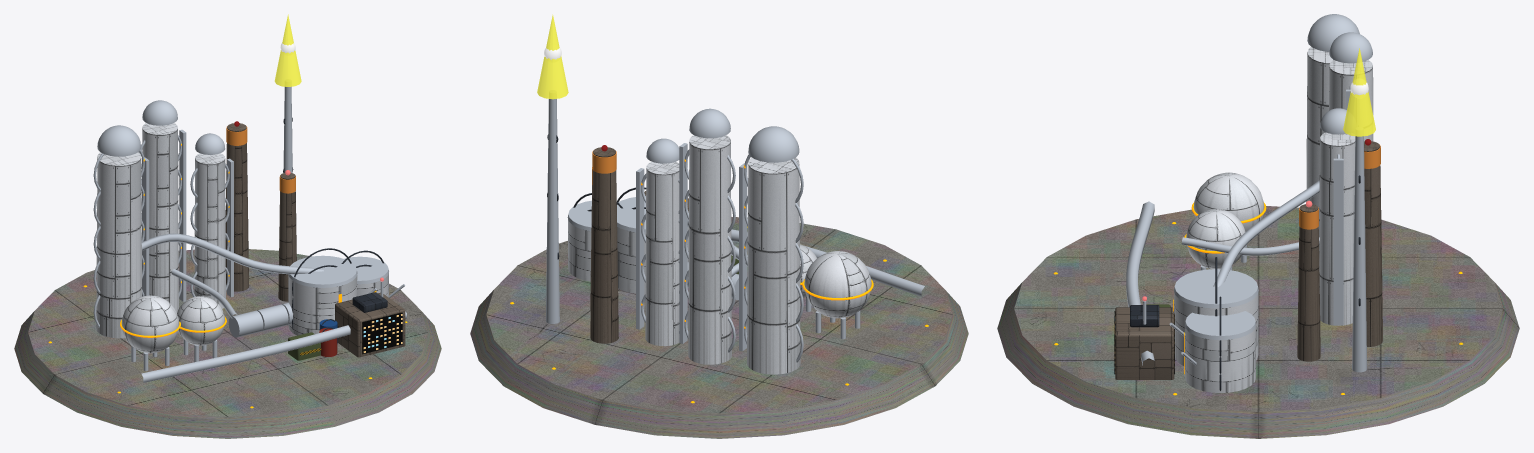
Rendered from refinery-T3.glb.
The picture shows the model from 3 angles, left to right: view 1: azimuth 30°, elevation 25°; view 2: azimuth 150°, elevation 25°; view 3: azimuth 270°, elevation 25°; orthographic projection. The views are drawn at different scales.
Parts seen in each view (by area): view 1: object 1, object 12, object 25, anim:smoke (×2), object 38, object 58, object 74, object 90, object 91, object 64, object 75, object 88 (+15 smaller); view 2: object 1, object 12, object 25, object 38, anim:smoke, object 58, object 49, object 37, object 13, anim:flame, object 24, object 74 (+7 smaller); view 3: object 1, anim:smoke (×2), object 38, object 81, object 91, object 49, object 12, object 58, object 75, object 64, object 48, anim:flame (+10 smaller).
Boxes of the visible parts, left/top/right/bottom form: object 1: left=14, top=249, right=441, bottom=438; object 12: left=96, top=152, right=141, bottom=338; object 25: left=142, top=123, right=178, bottom=312; anim:smoke (×2): left=225, top=123, right=296, bottom=301; object 38: left=194, top=153, right=225, bottom=308; object 58: left=121, top=295, right=179, bottom=353; object 74: left=288, top=275, right=357, bottom=335; object 90: left=141, top=311, right=406, bottom=382; object 91: left=335, top=292, right=405, bottom=357; object 64: left=177, top=296, right=225, bottom=345; object 75: left=288, top=255, right=357, bottom=287; object 88: left=141, top=233, right=323, bottom=274; object 1: left=470, top=217, right=968, bottom=438; object 12: left=747, top=157, right=800, bottom=374; object 25: left=688, top=135, right=731, bottom=364; object 38: left=645, top=161, right=679, bottom=346; anim:smoke: left=590, top=147, right=618, bottom=343; object 58: left=804, top=251, right=871, bottom=318; object 49: left=546, top=99, right=559, bottom=323; object 37: left=679, top=143, right=687, bottom=343; object 13: left=748, top=126, right=799, bottom=162; anim:flame: left=537, top=14, right=568, bottom=99; object 24: left=739, top=163, right=747, bottom=351; object 74: left=617, top=227, right=688, bottom=294; object 1: left=997, top=206, right=1519, bottom=438; anim:smoke (×2): left=1297, top=141, right=1382, bottom=361; object 38: left=1319, top=132, right=1355, bottom=325; object 81: left=1185, top=327, right=1255, bottom=392; object 91: left=1115, top=307, right=1174, bottom=379; object 49: left=1352, top=136, right=1366, bottom=372; object 12: left=1306, top=46, right=1332, bottom=250; object 58: left=1193, top=172, right=1264, bottom=231; object 75: left=1174, top=269, right=1258, bottom=308; object 64: left=1186, top=209, right=1245, bottom=269; object 48: left=1333, top=158, right=1343, bottom=325; anim:flame: left=1343, top=48, right=1375, bottom=136.
Bounding box in the file's own units: 6.2 × 4.56 × 6.2.
19 materials, 7 textured.
